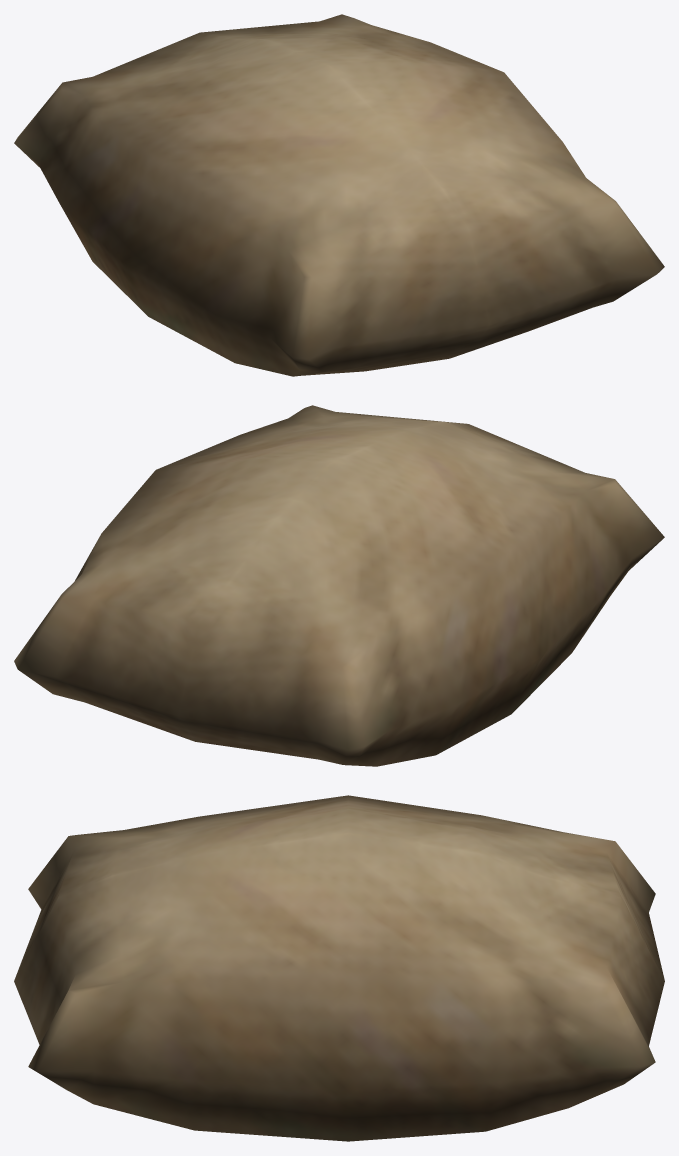
File: Map02_UaBcM_012.FBX
3 views of the same model, one above another, from view 1: azimuth 30°, elevation 25°; view 2: azimuth 150°, elevation 25°; view 3: azimuth 270°, elevation 25° (orthographic). The views are drawn at different scales.
Parts seen in each view (by area): view 1: Map02_UaBcM_012; view 2: Map02_UaBcM_012; view 3: Map02_UaBcM_012.
Boxes of the visible parts, x1,y1,x2,y2 form: Map02_UaBcM_012: (14, 14, 664, 376); Map02_UaBcM_012: (14, 405, 664, 766); Map02_UaBcM_012: (14, 795, 664, 1141).
Size of the model in its own units: 391 by 203 by 506.
